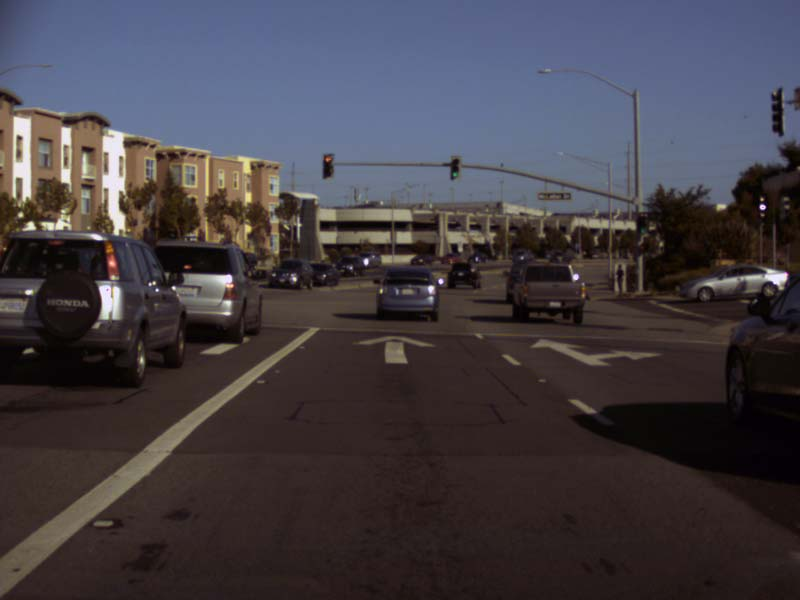Green: (449, 155, 462, 181), (637, 214, 647, 234)
Red: (322, 153, 335, 180)
